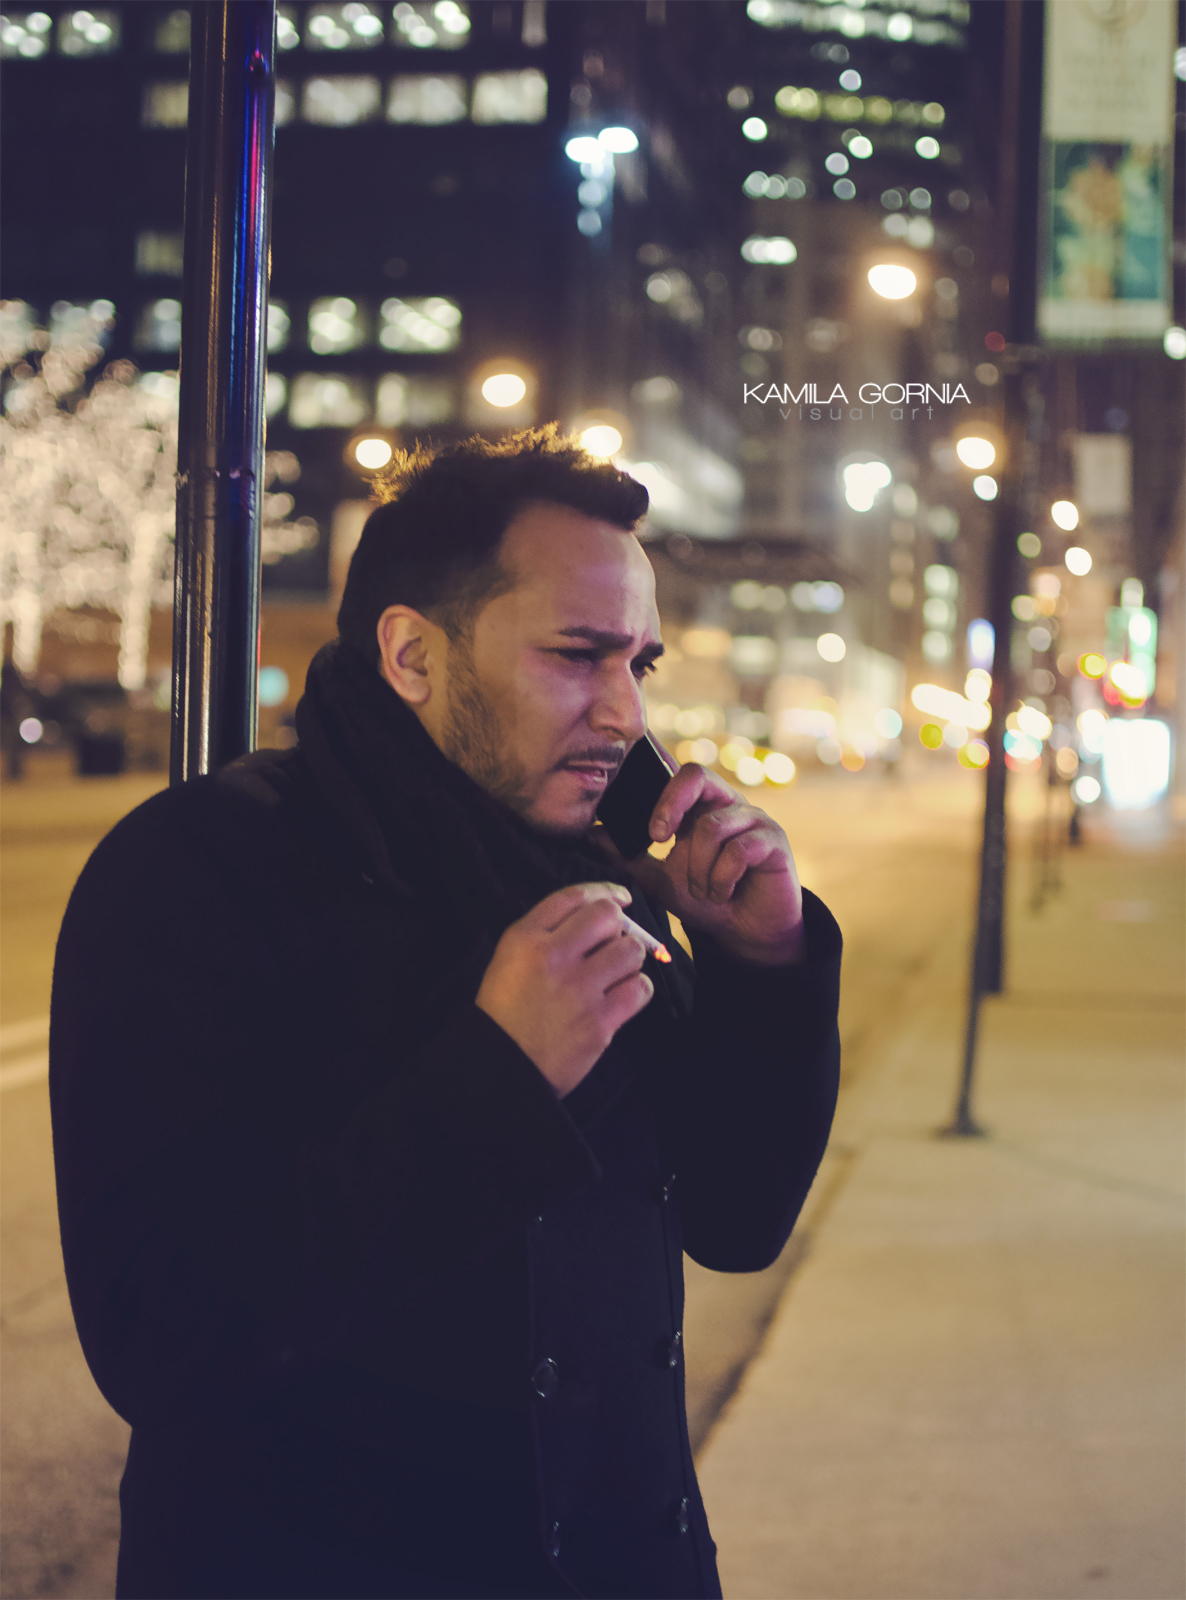phone: (610, 721, 741, 900)
